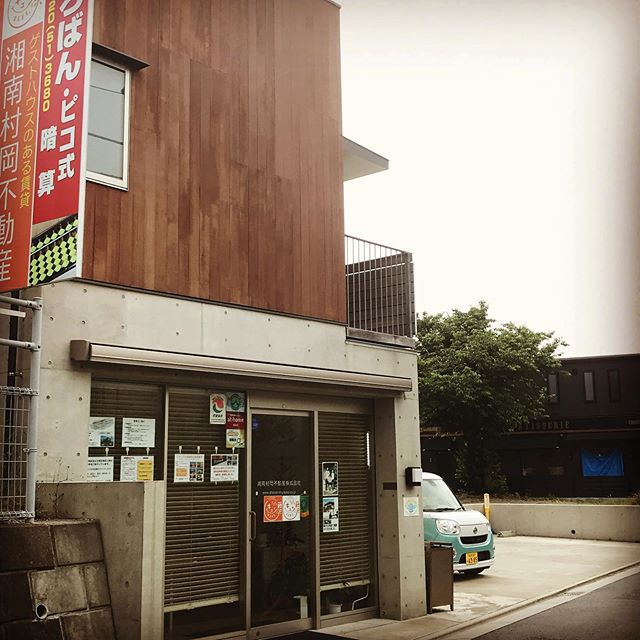building: (55, 1, 424, 640)
sign: (1, 1, 85, 280)
sky: (374, 1, 640, 324)
tree: (422, 306, 546, 490)
